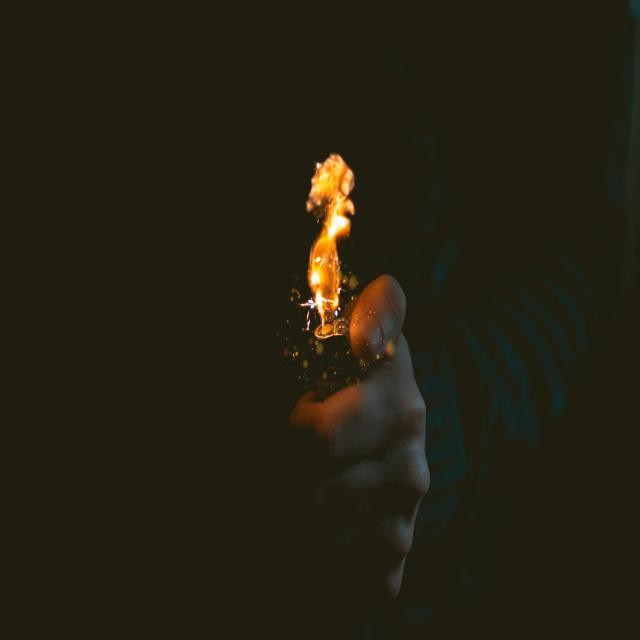fire: (306, 153, 356, 334)
